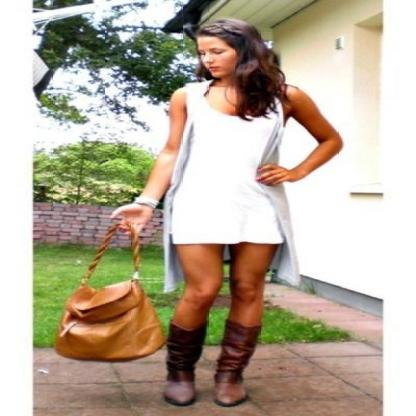bag: (53, 208, 167, 362)
dress: (163, 79, 282, 257)
shoe: (163, 318, 260, 406)
